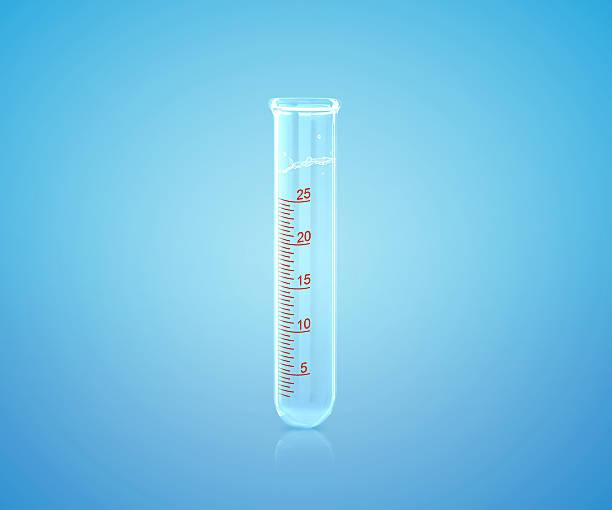Test tube: (263, 85, 343, 429)
